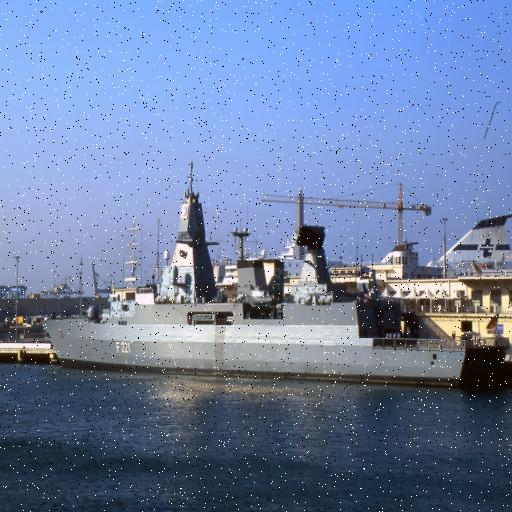Fragata: (39, 156, 512, 398)
